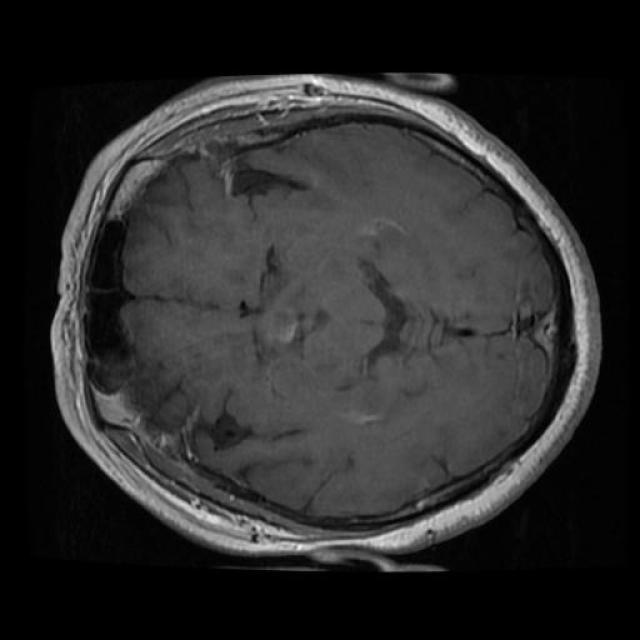Pituitary: (257, 308, 317, 348)
